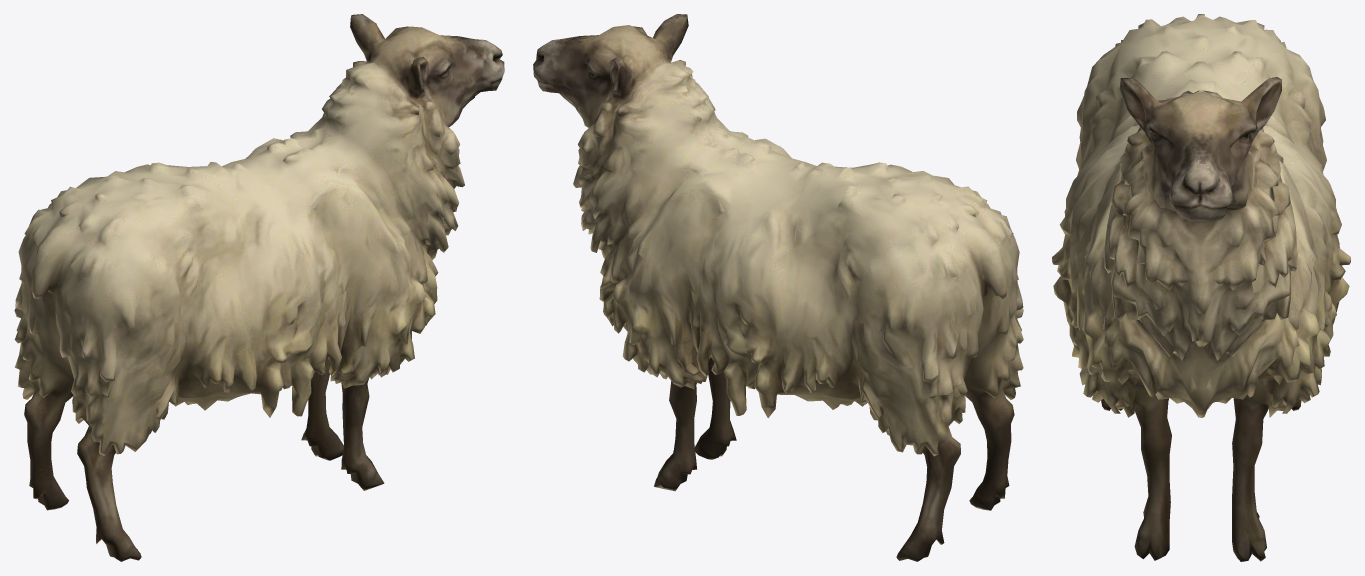
File: kit_ewe_a.glb
3 renders of one model, left to right at view 1: azimuth 30°, elevation 25°; view 2: azimuth 150°, elevation 25°; view 3: azimuth 270°, elevation 25°, orthographic. The views are drawn at different scales.
Visible parts, largest first — view 1: kit_ewe_a; view 2: kit_ewe_a; view 3: kit_ewe_a.
Boxes of the visible parts, <box> form: kit_ewe_a: <box>14,14,504,561</box>; kit_ewe_a: <box>533,14,1023,561</box>; kit_ewe_a: <box>1052,14,1350,561</box>.
Bounding box in the file's own units: 1.15 × 0.9989 × 0.5389.
1 material, 1 textured.
